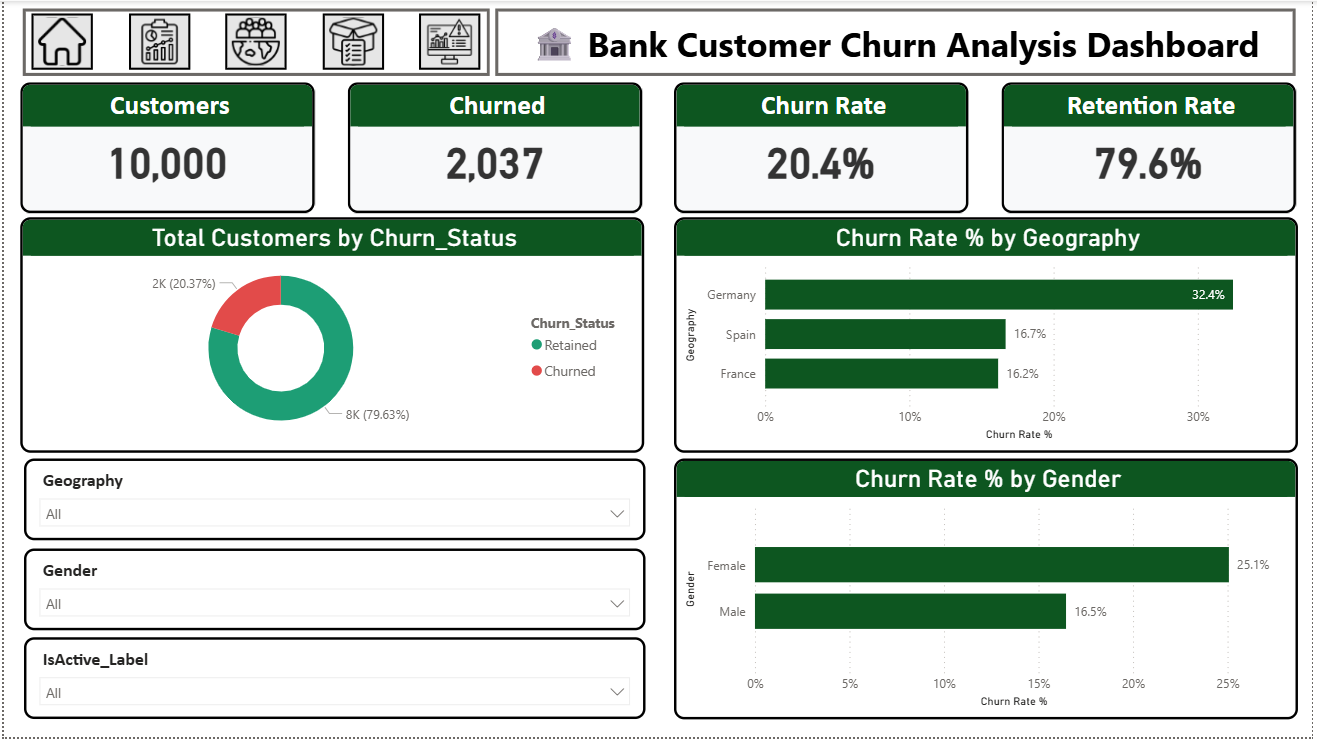

What the dashboard file says about the page in this screenshot:
{"tool":"powerbi","page":{"name":"Executive Overview","canvas":[1280,720],"ordinal":1},"visuals":[{"type":"actionButton","box":[481,7,783,66],"z":0},{"type":"advanceCardE03760C5AB684758B56AA29F9E6C257B","title":"Customers","fields":{"mainMeasure":["fact_Customers.Total Customers"]},"box":[16,80,288,128],"z":1000},{"type":"advanceCardE03760C5AB684758B56AA29F9E6C257B","title":"Churned","fields":{"mainMeasure":["fact_Customers.Total Churned"]},"box":[336,80,288,128],"z":2000},{"type":"advanceCardE03760C5AB684758B56AA29F9E6C257B","title":"Churn Rate","fields":{"mainMeasure":["fact_Customers.Churn Rate %"]},"box":[656,80,288,128],"z":3000},{"type":"advanceCardE03760C5AB684758B56AA29F9E6C257B","title":"Retention Rate","fields":{"mainMeasure":["fact_Customers.Retention Rate %"]},"box":[976,80,288,128],"z":4000},{"type":"donutChart","fields":{"Category":["fact_Customers.Churn_Status"],"Y":["fact_Customers.Total Customers"]},"box":[16,212,610,230],"z":5000},{"type":"clusteredBarChart","fields":{"Category":["fact_Customers.Geography"],"Y":["fact_Customers.Churn Rate %"]},"box":[656,212,610,230],"z":6000},{"type":"slicer","fields":{"Values":["fact_Customers.Geography"]},"box":[20,448,608,80],"z":7000},{"type":"clusteredBarChart","fields":{"Y":["fact_Customers.Churn Rate %"],"Category":["fact_Customers.Gender"]},"box":[656,448,610,255],"z":8000},{"type":"slicer","fields":{"Values":["fact_Customers.Gender"]},"box":[20,535,608,80],"z":9000},{"type":"slicer","fields":{"Values":["fact_Customers.IsActive_Label"]},"box":[20,622,608,80],"z":10000},{"type":"actionButton","box":[18,7,457,66],"z":11000},{"type":"actionButton","box":[27,12,60,55],"z":12000},{"type":"actionButton","box":[121.8,12,60,55],"z":13000},{"type":"actionButton","box":[216.5,12,60,55],"z":14000},{"type":"actionButton","box":[311.2,12,60,55],"z":15000},{"type":"actionButton","box":[406,12,60,55],"z":16000}]}

Visuals, with their boxes in screenshot pixels (x1, y1, x2, y2), scaled from the page's 1280x720 canvas onto the 1317x740 screenshot:
actionButton: BBox(495, 7, 1301, 75)
"Customers" advanceCardE03760C5AB684758B56AA29F9E6C257B: BBox(16, 82, 313, 214)
"Churned" advanceCardE03760C5AB684758B56AA29F9E6C257B: BBox(346, 82, 642, 214)
"Churn Rate" advanceCardE03760C5AB684758B56AA29F9E6C257B: BBox(675, 82, 971, 214)
"Retention Rate" advanceCardE03760C5AB684758B56AA29F9E6C257B: BBox(1004, 82, 1301, 214)
donutChart - fact_Customers.Churn_Status x fact_Customers.Total Customers: BBox(16, 218, 644, 454)
clusteredBarChart - fact_Customers.Geography x fact_Customers.Churn Rate %: BBox(675, 218, 1303, 454)
slicer - fact_Customers.Geography: BBox(21, 460, 646, 543)
clusteredBarChart - fact_Customers.Churn Rate % x fact_Customers.Gender: BBox(675, 460, 1303, 723)
slicer - fact_Customers.Gender: BBox(21, 550, 646, 632)
slicer - fact_Customers.IsActive_Label: BBox(21, 639, 646, 721)
actionButton: BBox(19, 7, 489, 75)
actionButton: BBox(28, 12, 90, 69)
actionButton: BBox(125, 12, 187, 69)
actionButton: BBox(223, 12, 284, 69)
actionButton: BBox(320, 12, 382, 69)
actionButton: BBox(418, 12, 479, 69)
